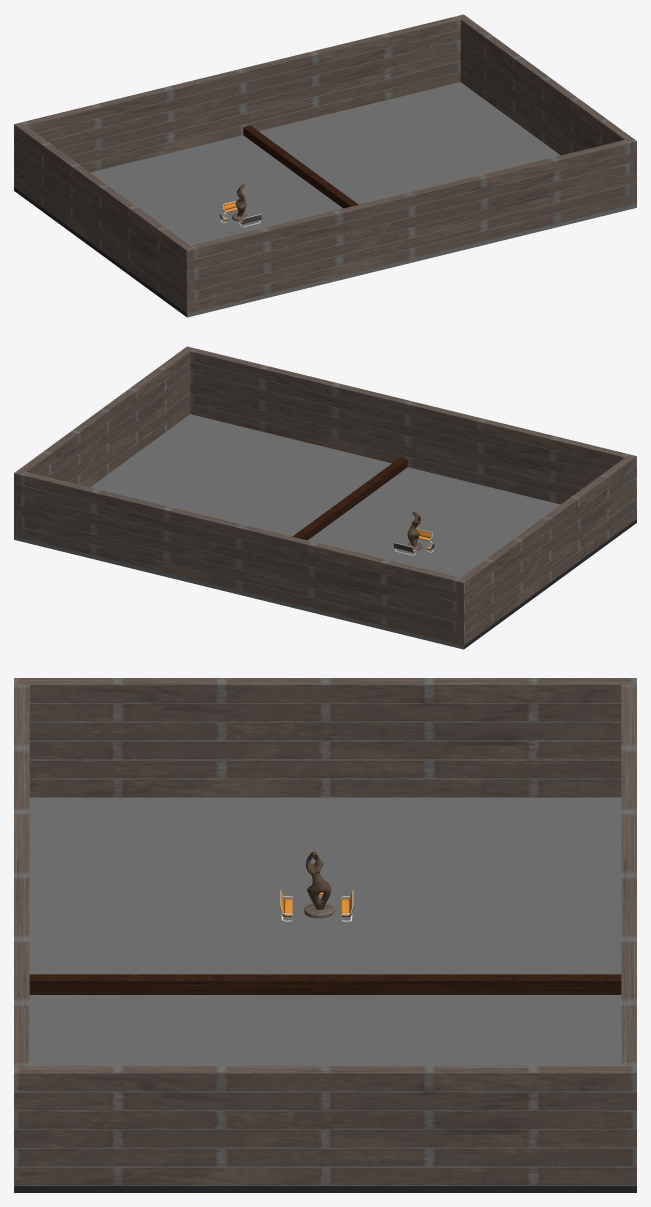
Rendered from level_enclosed_v2.gltf.
3 renders of one model, top to bottom at view 1: azimuth 30°, elevation 25°; view 2: azimuth 150°, elevation 25°; view 3: azimuth 270°, elevation 25°, orthographic. The views are drawn at different scales.
Visible parts, largest first — view 1: Floor, Cube5, Cube6, Cube2, Cube3, Cube; view 2: Floor, Cube6, Cube5, Cube2, Cube3, Cube; view 3: Floor, Cube3, Cube2, Cube, Cube5, Cube6, SM_Statue.
Part boxes in pixels (<box>): Floor: <box>14,82,636,317</box>; Cube5: <box>191,140,629,311</box>; Cube6: <box>22,16,460,172</box>; Cube2: <box>14,122,194,313</box>; Cube3: <box>456,14,636,205</box>; Cube: <box>243,125,358,208</box>; Floor: <box>14,414,636,649</box>; Cube6: <box>21,472,459,643</box>; Cube5: <box>190,348,628,504</box>; Cube2: <box>456,454,636,645</box>; Cube3: <box>14,346,194,537</box>; Cube: <box>292,457,407,540</box>; Floor: <box>14,797,636,1192</box>; Cube3: <box>14,1066,636,1185</box>; Cube2: <box>14,678,636,797</box>; Cube: <box>29,974,621,994</box>; Cube5: <box>14,684,29,1066</box>; Cube6: <box>621,684,636,1066</box>; SM_Statue: <box>304,851,334,918</box>.
Size of the model in its own units: 60 by 8.5 by 40.
9 materials, 9 textured.
